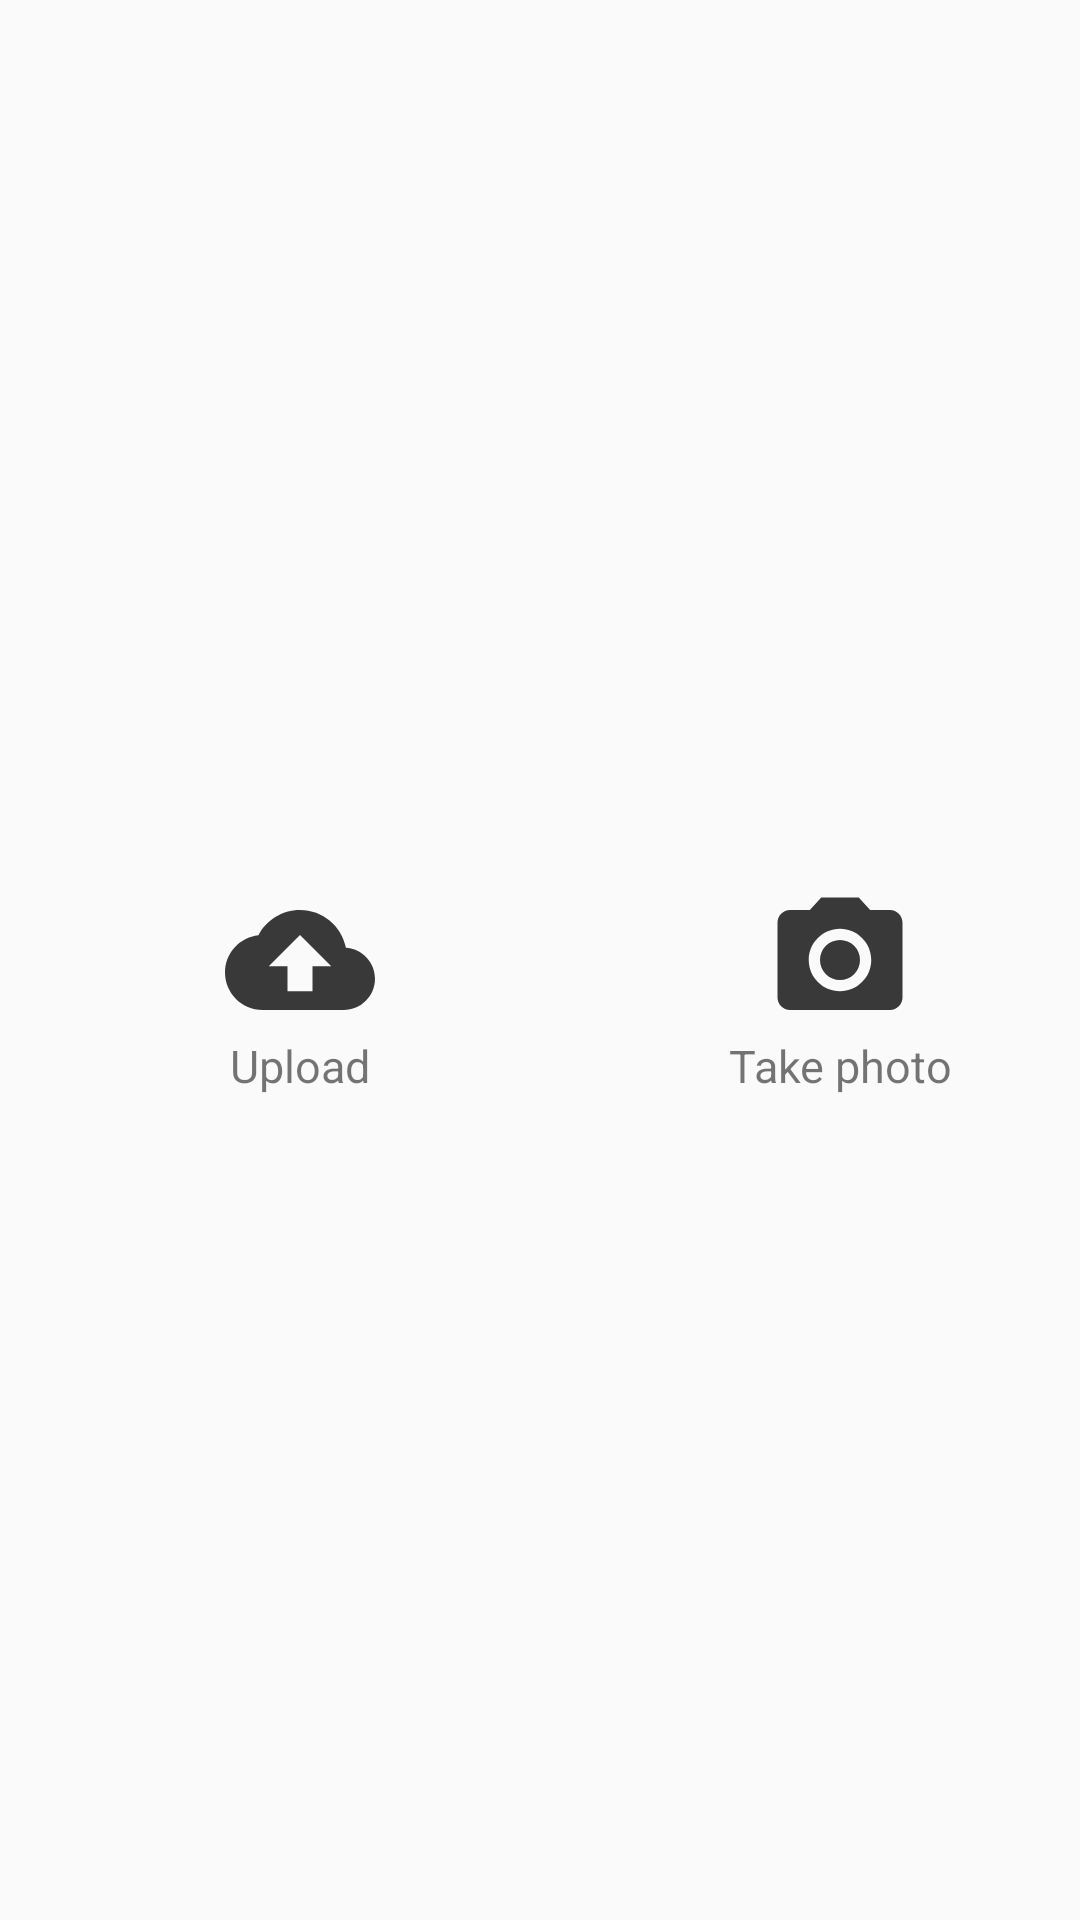

Icons on this 1080x1920 Android screen, each with the point to tap as (x,y):
camera: (840,953)
